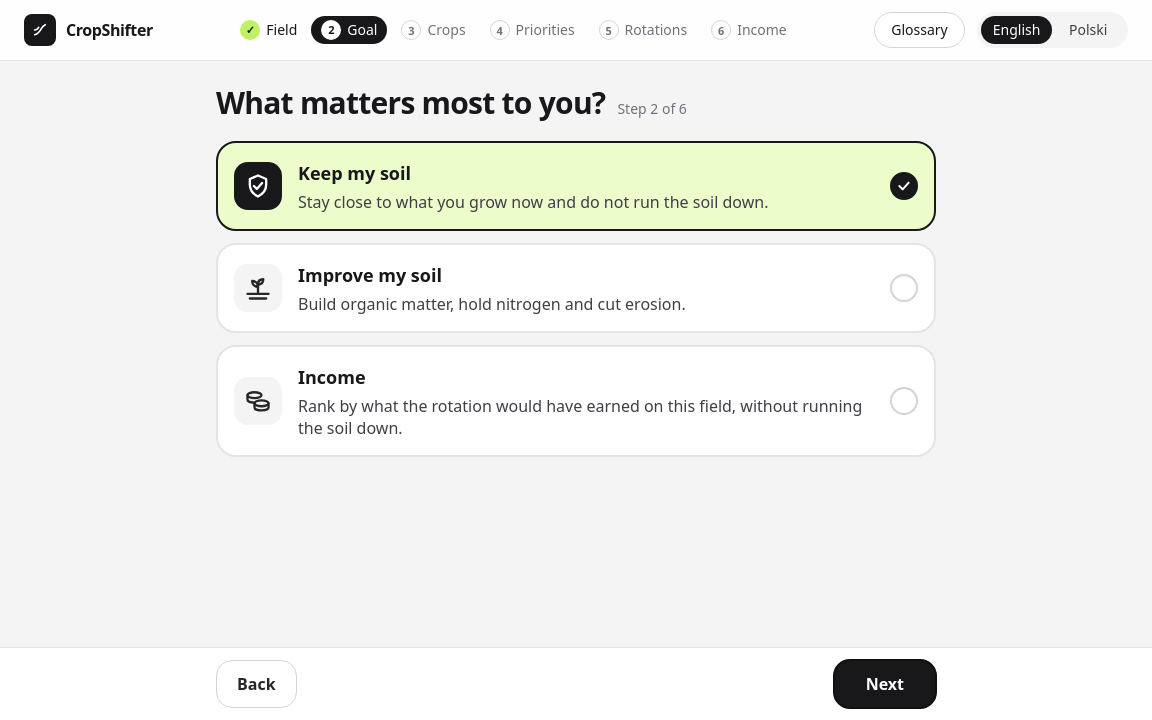
it: step shell on fixtures › walks the Iowa demo field from the field to the rotation cards
Earlier steps of the test are not shown.
Later steps or results of the test are not shown.
Step 1. Click the radio button labelled "Improve my soil" → (258, 288), box [216, 243, 936, 333]
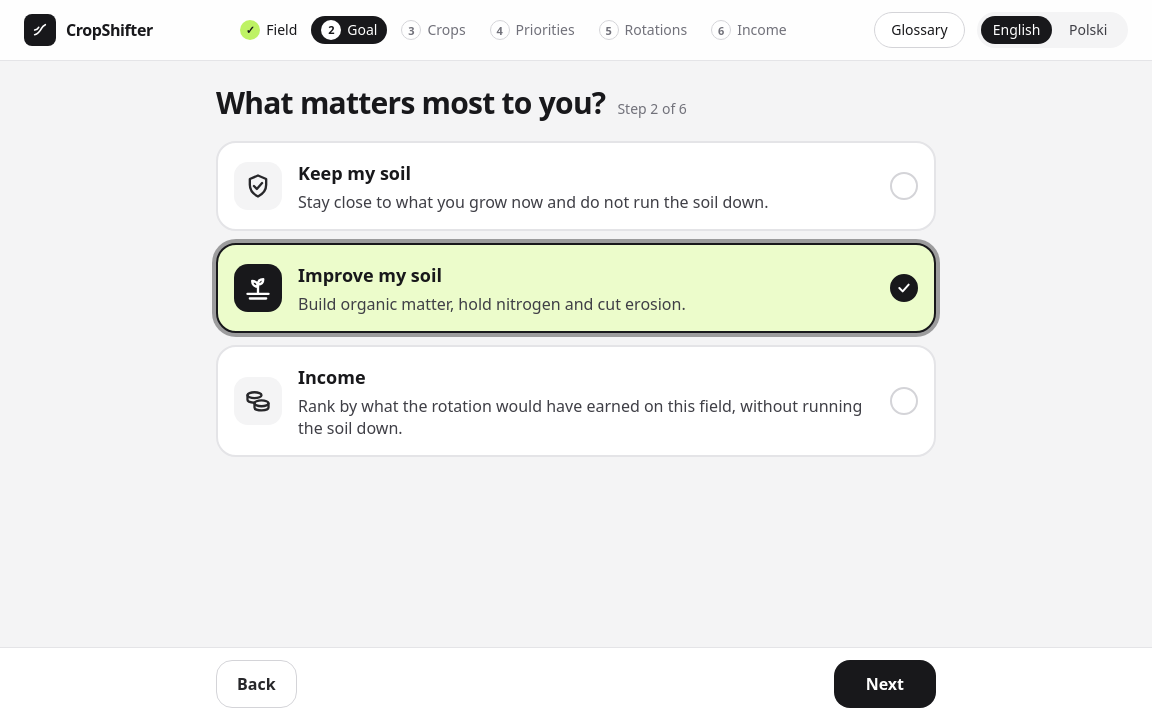
Step 2. Click the button "Next" → (885, 684), box [834, 660, 936, 708]
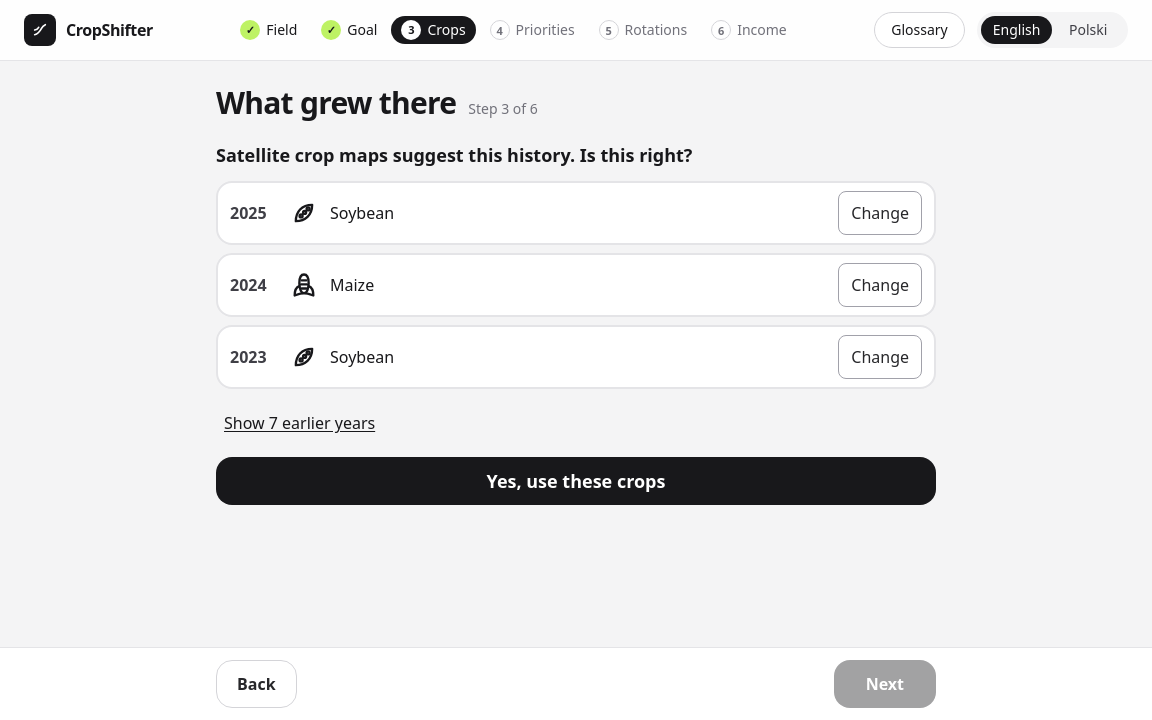
Check: the heading "Satellite crop maps suggest this history. Is this right?" is shown, box [216, 143, 692, 167]
Check: the button "Next" is disabled, box [834, 660, 936, 708]
Step 3. Click the button "Yes, use these crops" → (576, 481), box [216, 457, 936, 505]
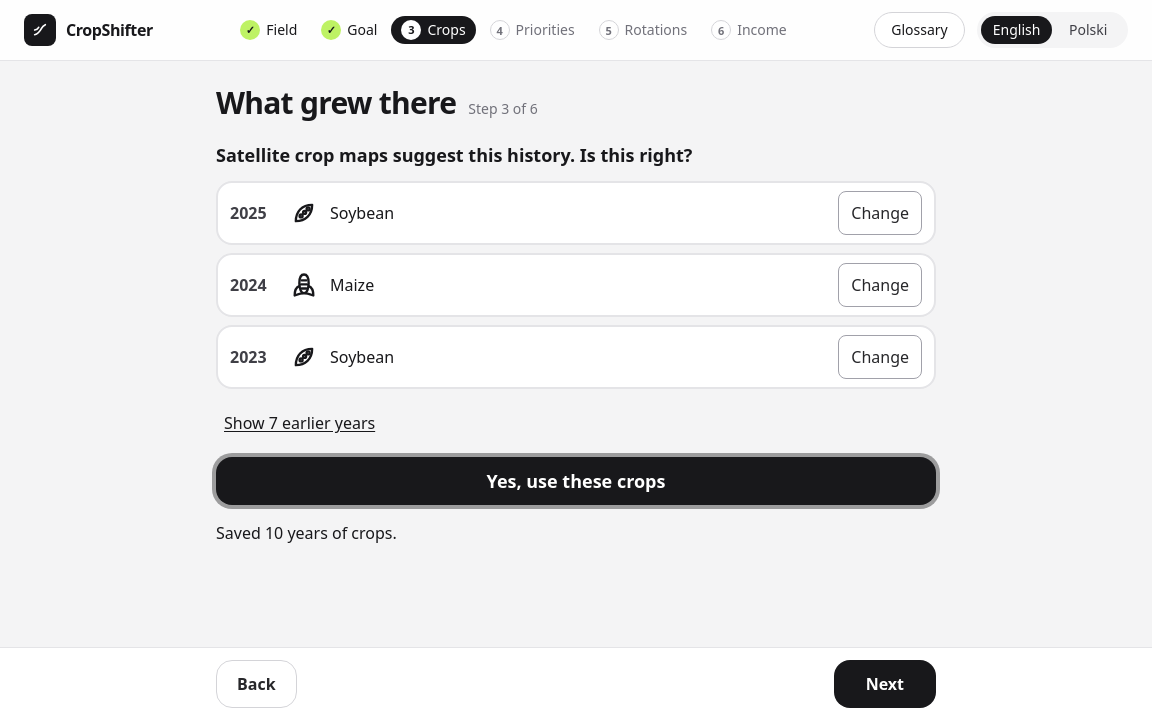
Step 4. Click the button "Next" → (885, 684), box [834, 660, 936, 708]
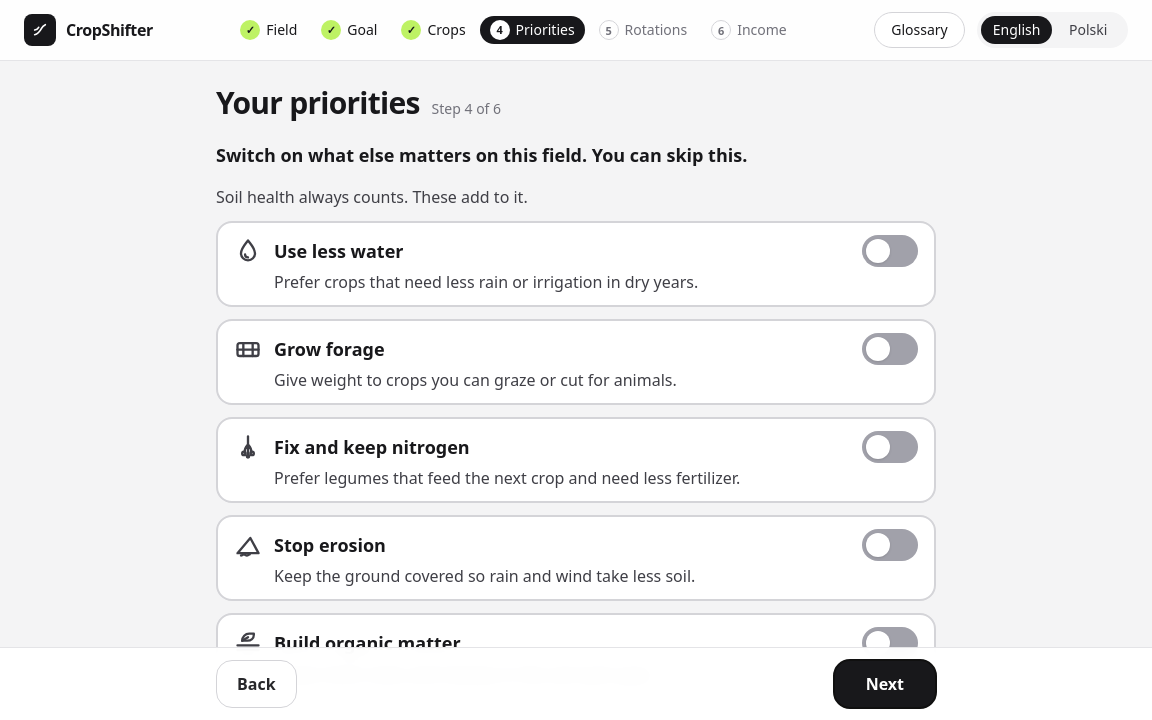
Step 5. Click the checkbox labelled "Stop erosion" → (330, 545), box [216, 515, 936, 601]
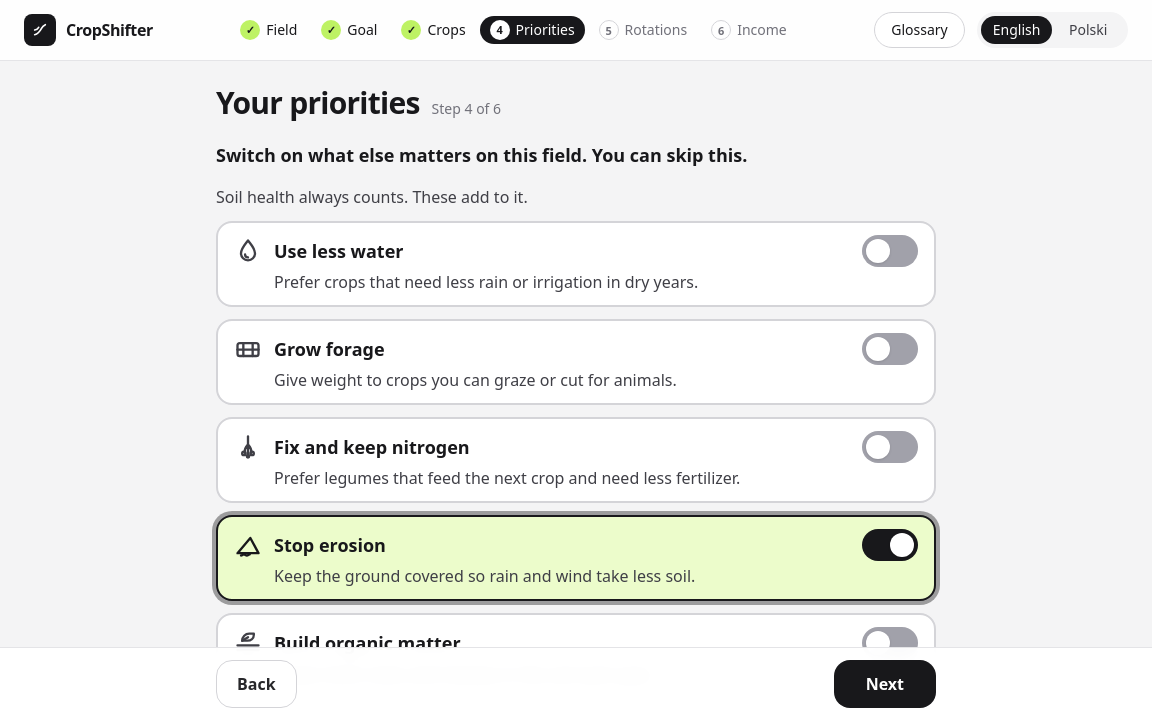
Step 6. Click the button "Next" → (885, 684), box [834, 660, 936, 708]
(page scrolled)
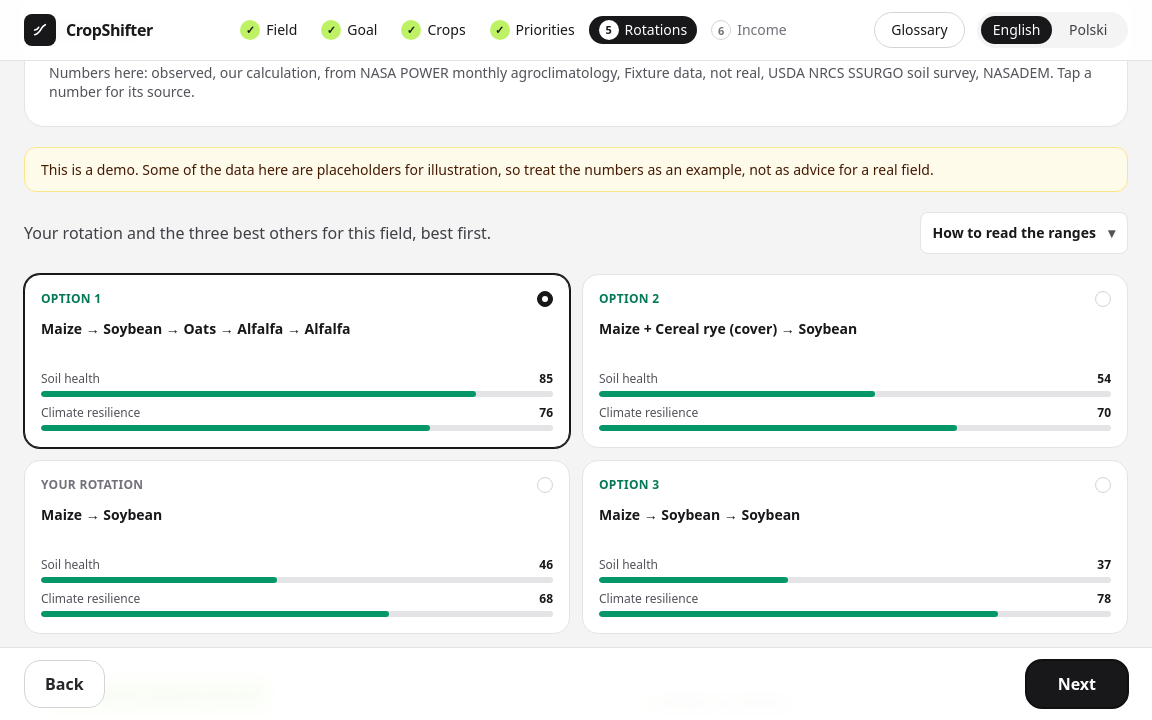
Check: the text "Your rotation" is shown, box [41, 477, 143, 493]
Check: the number of radio buttons is 4, box [24, 274, 570, 448]; [582, 274, 1128, 448]; [24, 460, 570, 634]; [582, 460, 1128, 634]
